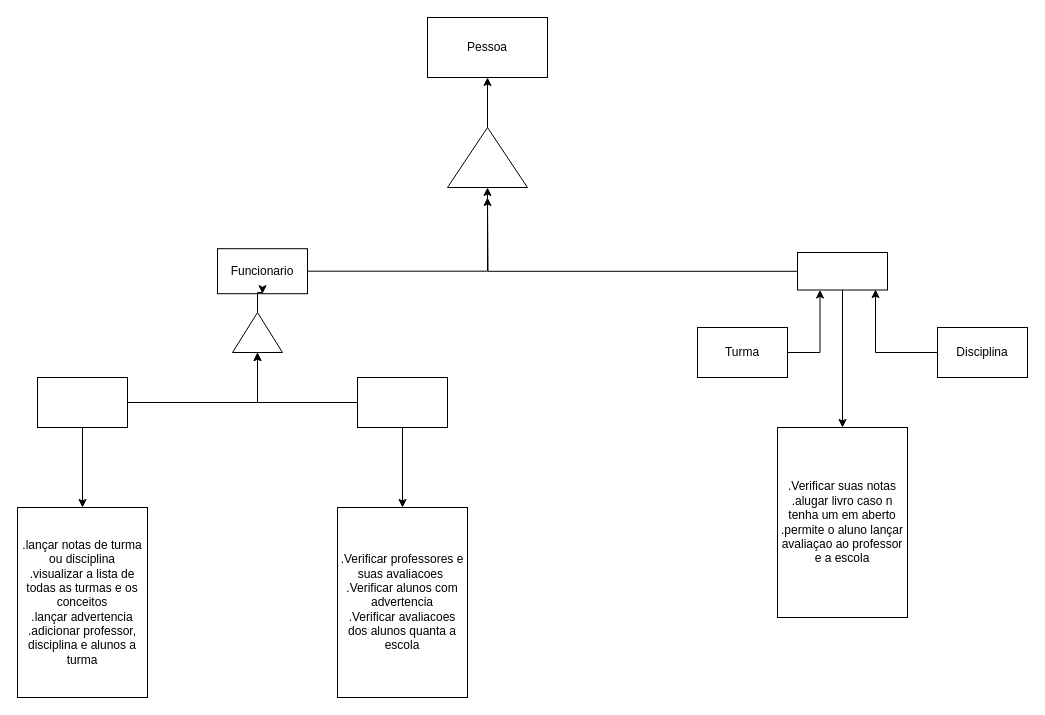
This 1045x715 diagram has some shape labels left out. The box of each missing label's shape, as (x1, y1, x2, y2) in pixels:
Aluno: (796, 252, 888, 290)
Diretor: (356, 376, 448, 428)
Professor: (36, 376, 128, 428)
